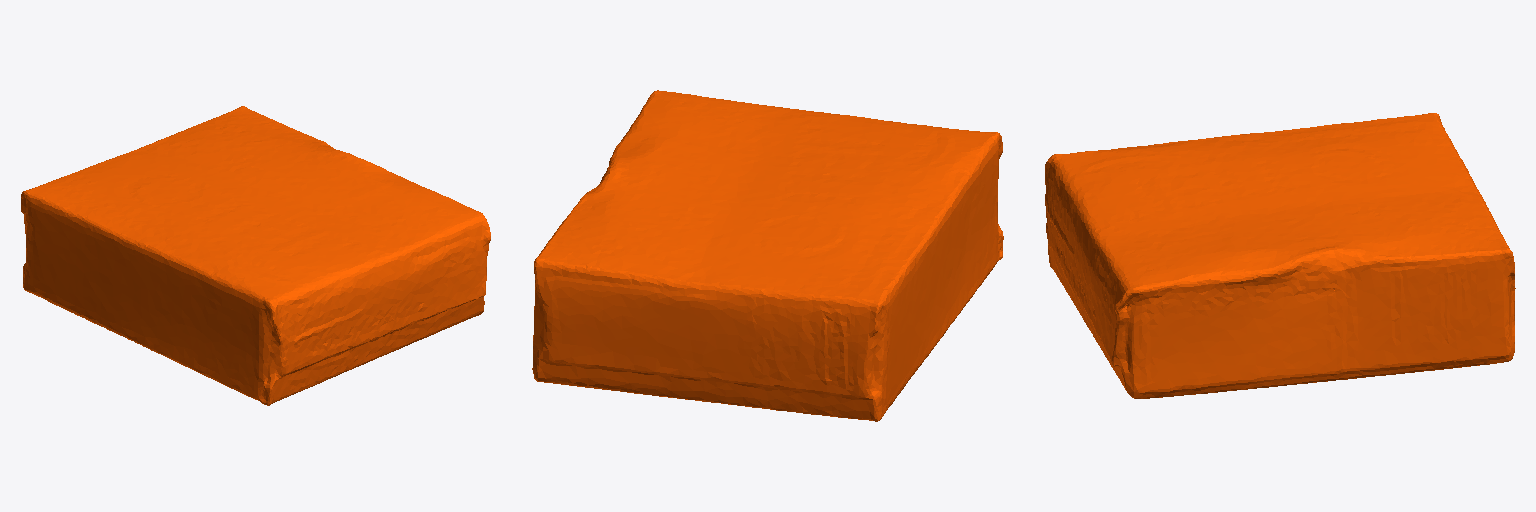
URDF robot description (009_gelatin_box):
<?xml version="1.0" ?>
<robot name="009_gelatin_box">
   <material name="obj_color">
      <color rgba="1.0 0.423529411765 0.0392156862745 1.0"/>
   </material>
   <link name="top">
      <inertial>
         <origin rpy="0.0001650719898696766 0.0002328521781635173 0.0003545264732303266" xyz="-0.001461191927742409 0.001984676770923678 -0.001883779801804318"/>
         <mass value="0.3391894114200966"/>
         <inertia ixx="0.0002293902666082154" ixy="1.492245561126907e-05" ixz="4.583529311859295e-07" iyy="0.0001685392814990791" iyz="-8.803643857520085e-07" izz="0.000354521093156226"/>
      </inertial>
      <visual>
         <origin rpy="0 0 0" xyz="0 0 0"/>
         <geometry>
            <mesh filename="top_watertight_tiny.stl" scale="1 1 1"/>
         </geometry>
         <material name="obj_color"/>
      </visual>
      <collision>
         <origin rpy="0 0 0" xyz="0 0 0"/>
         <geometry>
            <mesh filename="top_watertight_tiny.obj" scale="1 1 1"/>
         </geometry>
      </collision>
   </link>
   <link name="bottom">
      <inertial>
         <origin rpy="1.633333333199431e-08 1.633333333199431e-08 1.633333333362855e-08" xyz="0.3464080000000008 0.3464080000000008 0.3464080000000008"/>
         <mass value="0.0009800000000000017"/>
         <inertia ixx="1.633333333253906e-08" ixy="5.447480642029219e-19" ixz="5.447480642029219e-19" iyy="1.633333333253906e-08" iyz="5.447480642029219e-19" izz="1.633333333253906e-08"/>
      </inertial>
      <visual>
         <origin rpy="0 0 0" xyz="0 0 0"/>
         <geometry>
            <mesh filename="bottom_watertight_tiny.stl" scale="1 1 1"/>
         </geometry>
         <material name="obj_color"/>
      </visual>
   </link>
   <link name="world"/>
   <joint name="world_to_base" type="fixed">
      <origin xyz="0 0 0"/>
      <axis xyz="0 0 0"/>
      <parent link="world"/>
      <child link="bottom"/>
   </joint>
   <joint name="rotation" type="revolute">
      <origin xyz="0 0 0"/>
      <axis xyz="0 0 -1"/>
      <parent link="bottom"/>
      <child link="top"/>
      <dynamics damping="1.0" friction="1.0"/>
      <limit effort="0.1" velocity="0.1" lower="0" upper="0.001"/>
   </joint>
</robot>

--- Render facts (derived) ---
The picture shows the robot from 3 angles, left to right: view 1: azimuth 30°, elevation 25°; view 2: azimuth 150°, elevation 25°; view 3: azimuth 270°, elevation 25°; orthographic projection.
Model 009_gelatin_box with 3 links and 2 joints (1 revolute, 1 fixed), rooted at world, posed all joints at 0.
Links seen in each view (by area): view 1: top; view 2: top; view 3: top.
Link boxes in pixels (<box>): top: <box>21,106,490,405</box>; top: <box>532,90,1003,421</box>; top: <box>1045,113,1515,398</box>.
Bounding box of the posed robot: 0.0894 × 0.1011 × 0.0301 m (x, y, z).
1 mesh visuals loaded from 2 distinct referenced files (1 binary STL); not drawn: 1 (reference not matched to a file when rendering).
